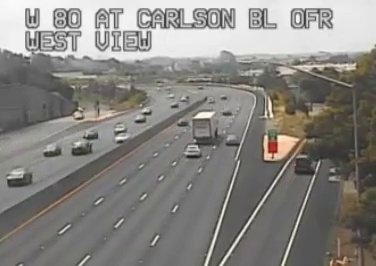car: (184, 144, 200, 157), (225, 134, 239, 145)
truck: (191, 111, 217, 142)
